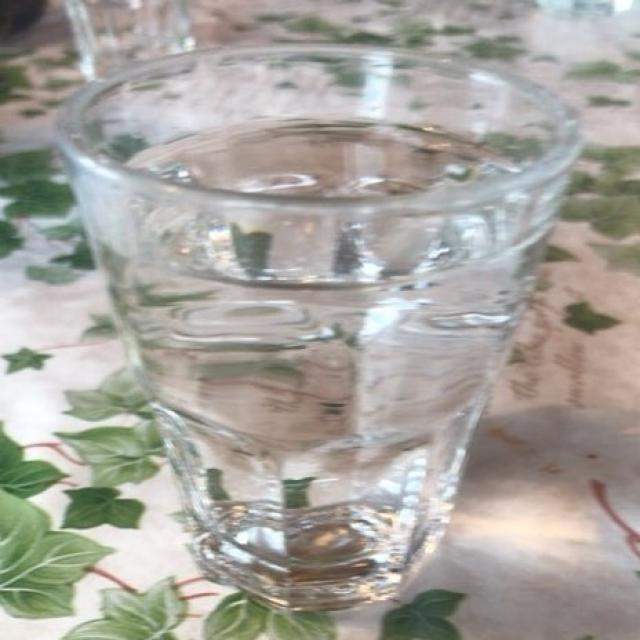water: (94, 74, 576, 590)
